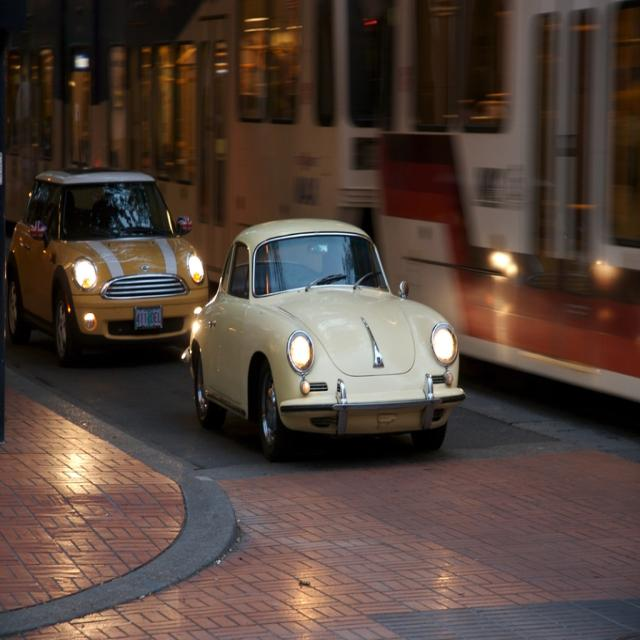car: (185, 221, 462, 461)
